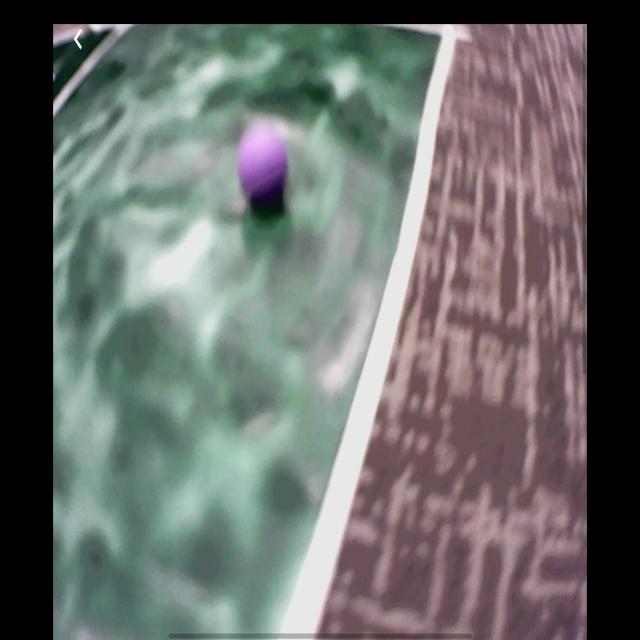ball: (237, 119, 290, 217)
